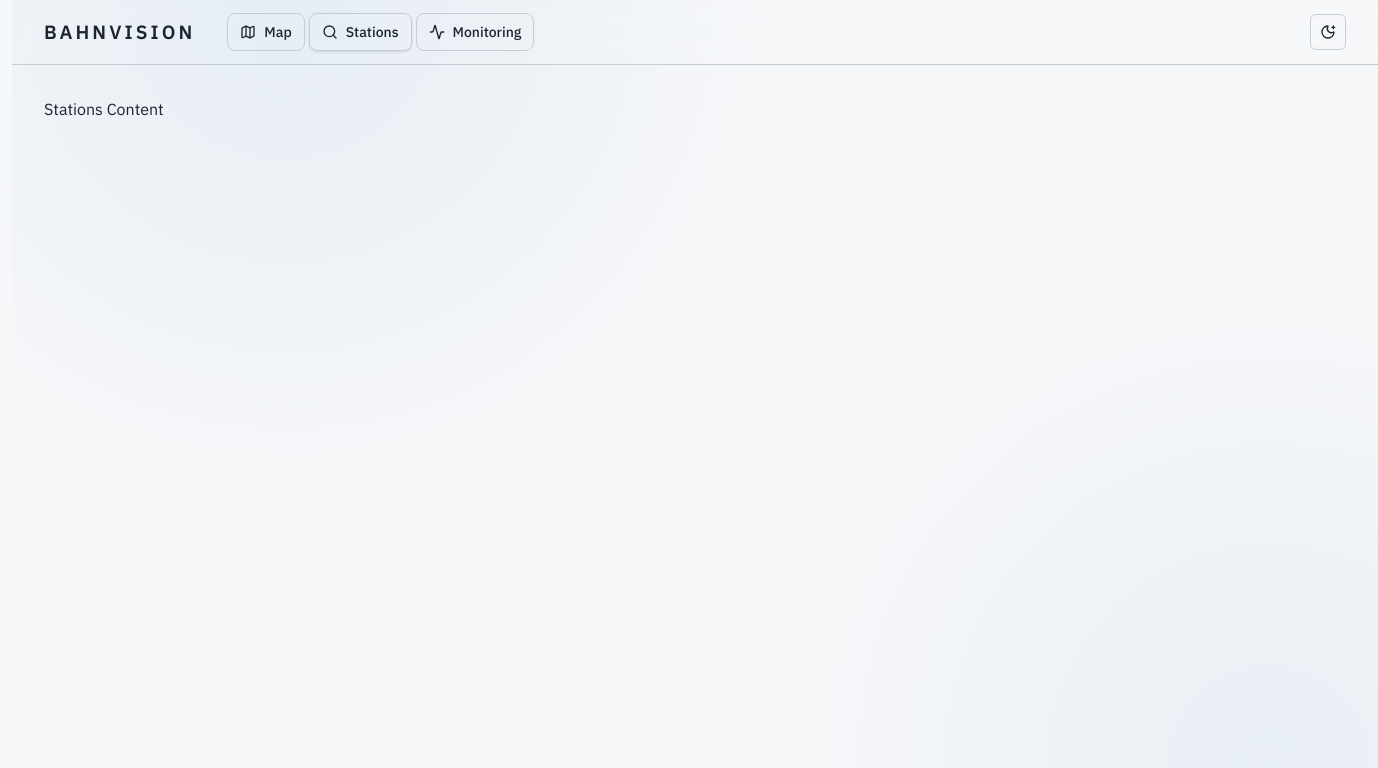
Test case: Layout › renders navigation and highlights active route
Expected: the text "Stations Content" is shown, [44, 99, 164, 119]
Click the link "Map": (266, 32) [227, 13, 305, 51]
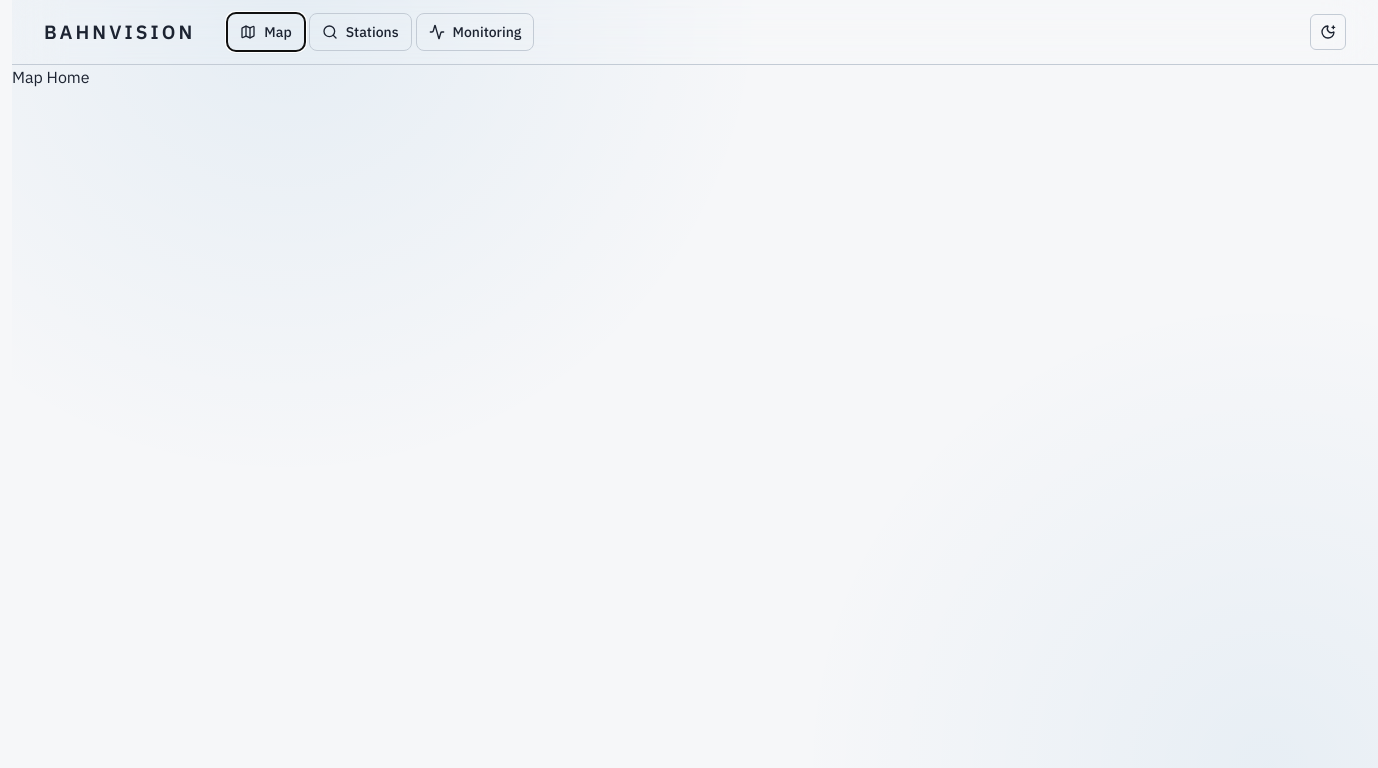
Result: the text "Map Home" is shown at [12, 67, 90, 87]
